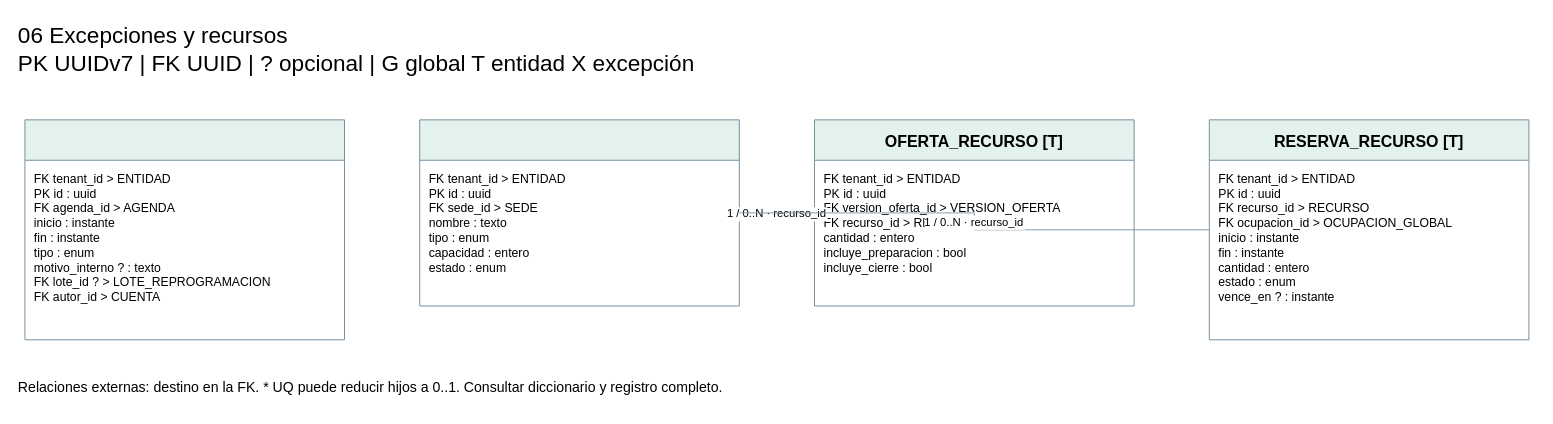
The diagram is 1553 pixels wide and 424 high, and some of its shapes have lost their labels. Each missing label, with the box of its shape:
EXCEPCION_AGENDA [T]: (24, 119, 345, 340)
RECURSO [T]: (419, 119, 739, 306)
